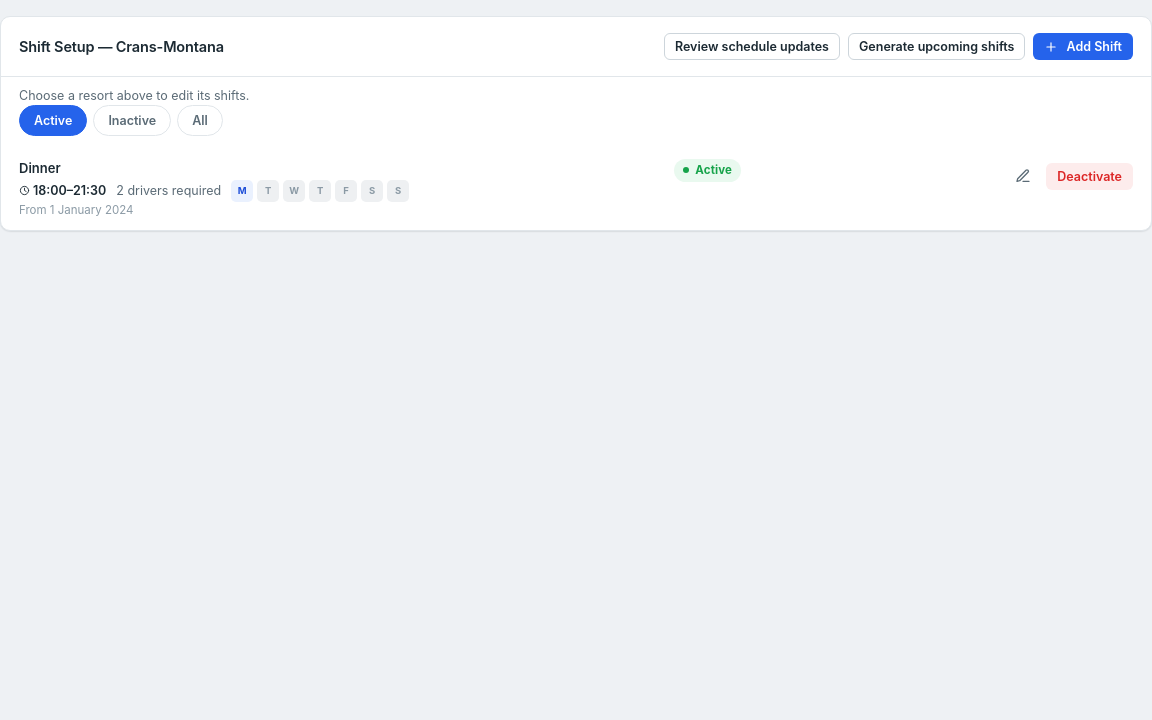
Test case: ShiftSetupPanel: Add Shift › 10/13. the Add Shift form contains only the approved fields -- Drivers required, but no key, pay, or high-value
Check: the text "Dinner" is shown, box top-left (19, 160), bottom-right (60, 176)
Step 1. Click the button "Add Shift" → (1083, 46), box top-left (1034, 33), bottom-right (1133, 60)
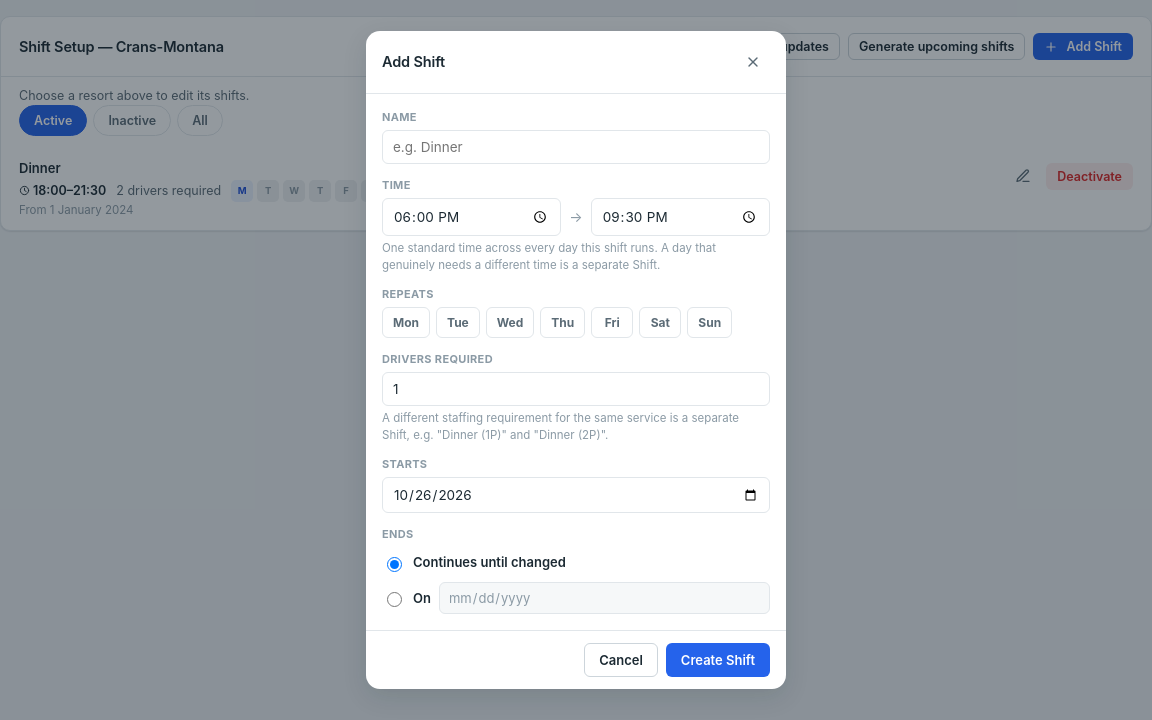
Check: the field labelled "Name" is shown, box top-left (382, 130), bottom-right (770, 164)
Check: the time field named "Start time" is shown, box top-left (382, 198), bottom-right (561, 236)
Check: the time field named "End time" is shown, box top-left (591, 198), bottom-right (770, 236)
